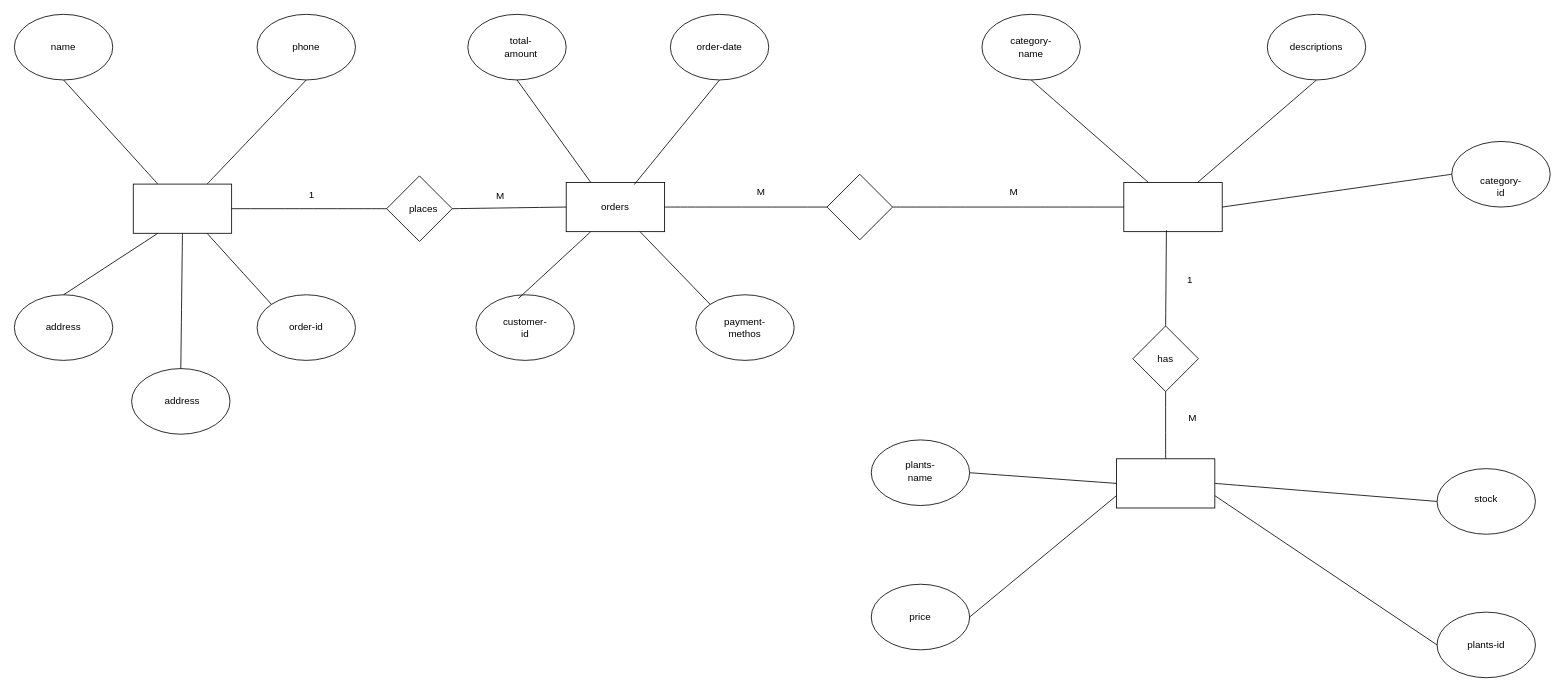
Some shapes in this 1565 by 692 pixel diagram are drawn without their labels. The box of each missing label's shape, as (x1, y1, x2, y2) in pixels:
category: (1123, 182, 1222, 232)
contains: (826, 173, 893, 240)
customer: (132, 183, 232, 233)
plants: (1116, 458, 1215, 508)
